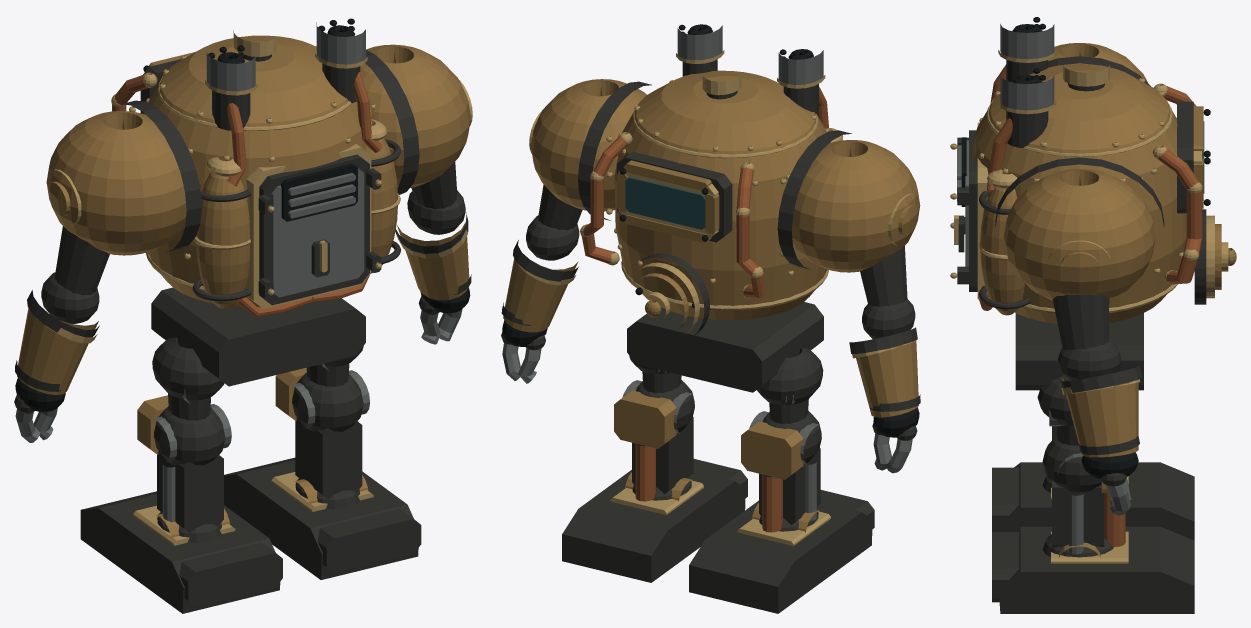
3 views of the same model, side by side, from view 1: azimuth 30°, elevation 25°; view 2: azimuth 150°, elevation 25°; view 3: azimuth 270°, elevation 25° (orthographic). The views are drawn at different scales.
Bounding box in the file's own units: 3.51 × 4 × 2.03.
